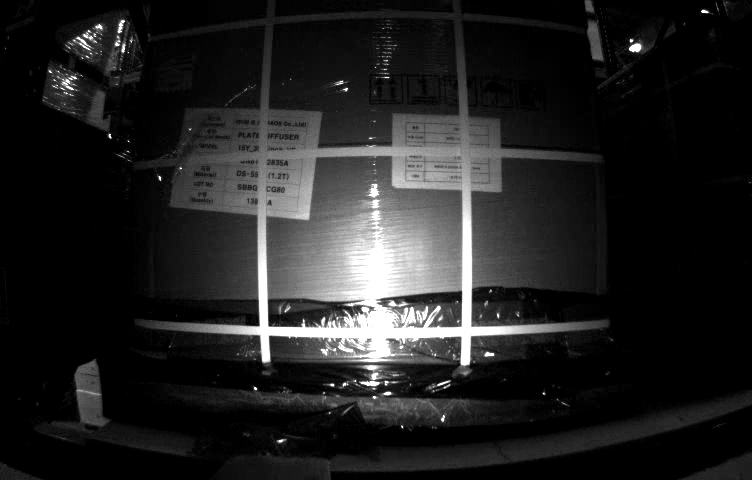True Barcode: (157, 57, 192, 89)
